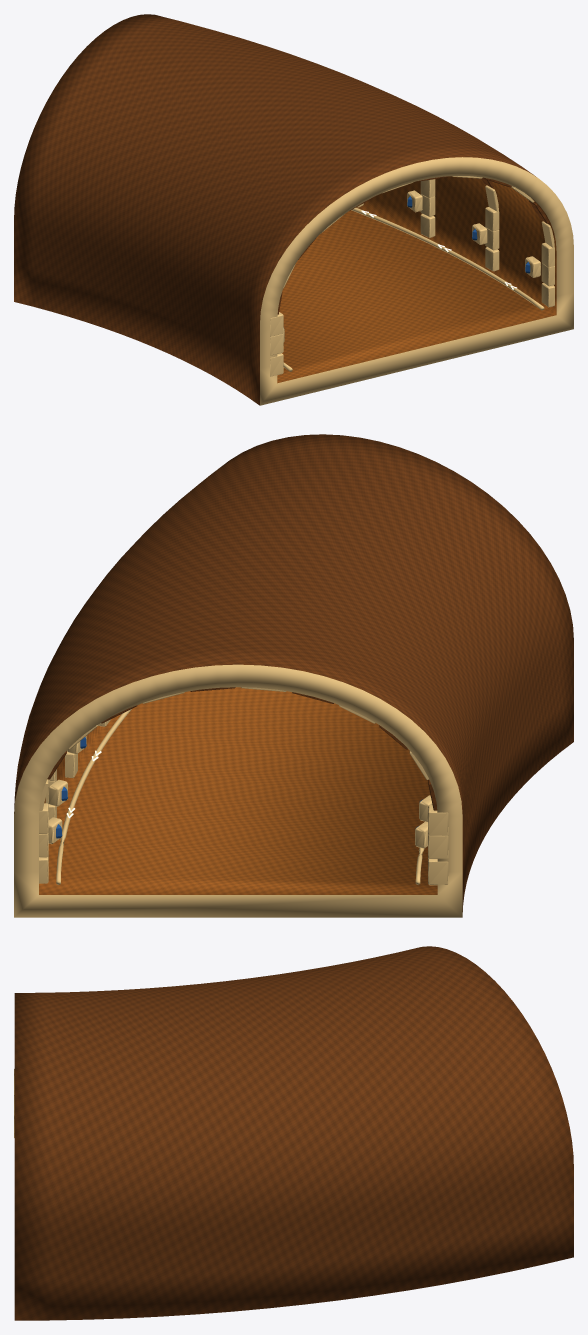
The model's file is curve_left_30_lod1.glb.
3 renders of one model, top to bottom at view 1: azimuth 30°, elevation 25°; view 2: azimuth 150°, elevation 25°; view 3: azimuth 270°, elevation 25°, orthographic. The views are drawn at different scales.
Visible parts, largest first — view 1: TunnelGeometry.001; view 2: TunnelGeometry.001; view 3: TunnelGeometry.001.
Boxes of the visible parts, <box> form: TunnelGeometry.001: <box>14,14,573,405</box>; TunnelGeometry.001: <box>14,434,573,917</box>; TunnelGeometry.001: <box>14,946,573,1320</box>.
Bounding box in the file's own units: 19.1 × 9.52 × 21.85.
Materials: 5 (2 with a texture image).
